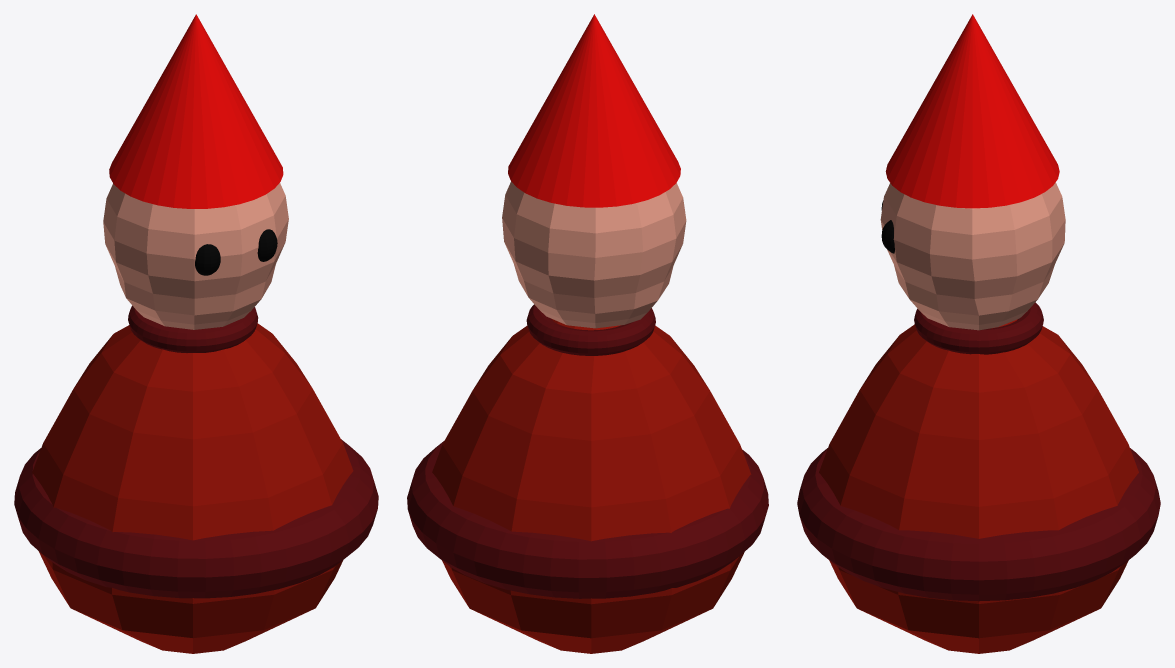
File: joaozin.fbx
3 views of the same model, side by side, from view 1: azimuth 30°, elevation 25°; view 2: azimuth 150°, elevation 25°; view 3: azimuth 270°, elevation 25° (orthographic).
Parts seen in each view (by area): view 1: Torus.001; view 2: Torus.001; view 3: Torus.001.
Part boxes in pixels (x1=…): Torus.001: x1=14, y1=14, x2=378, y2=653; Torus.001: x1=407, y1=14, x2=768, y2=653; Torus.001: x1=797, y1=14, x2=1160, y2=653.
Size of the model in its own units: 171 by 319 by 171.
